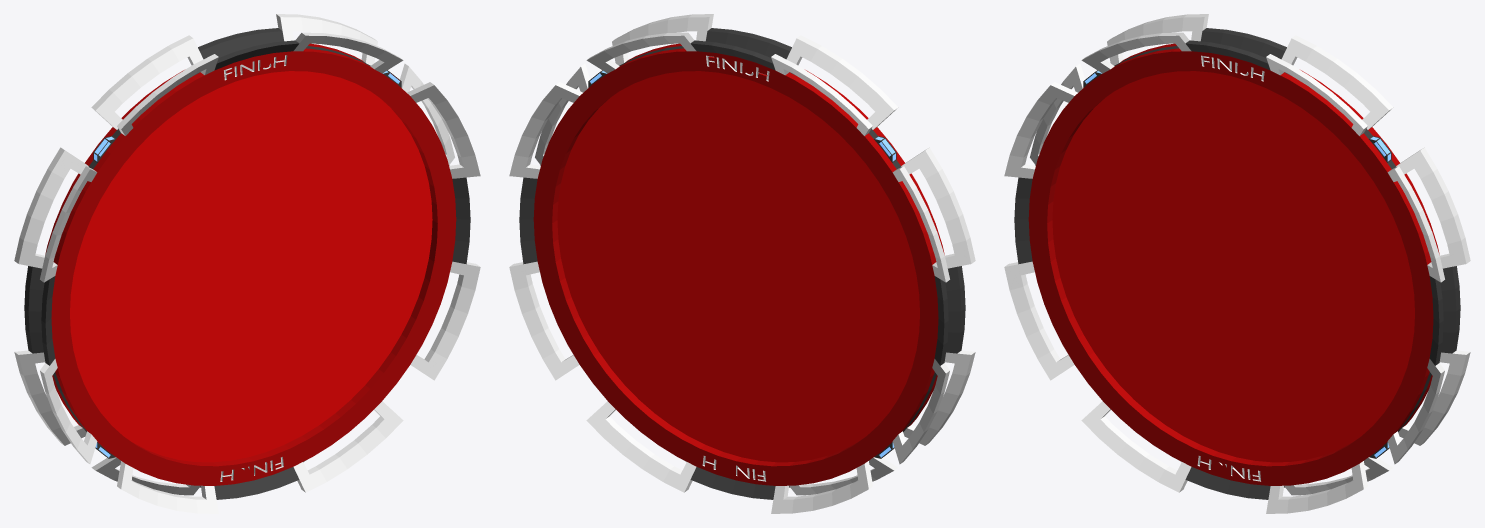
File: Checkpoint_ring_Finish.fbx
The picture shows the model from 3 angles, left to right: view 1: azimuth 30°, elevation 25°; view 2: azimuth 150°, elevation 25°; view 3: azimuth 330°, elevation 25°; orthographic projection.
Visible parts, largest first — view 1: Semi-transparent checkpoint inside, Checkpoint Ring; view 2: Semi-transparent checkpoint inside, Checkpoint Ring; view 3: Semi-transparent checkpoint inside, Checkpoint Ring.
Part boxes in pixels (<box>): Semi-transparent checkpoint inside: <box>70,71,432,462</box>; Checkpoint Ring: <box>14,14,480,513</box>; Semi-transparent checkpoint inside: <box>557,71,919,462</box>; Checkpoint Ring: <box>509,14,975,513</box>; Semi-transparent checkpoint inside: <box>1052,71,1414,462</box>; Checkpoint Ring: <box>1004,14,1470,513</box>.
Bounding box in the file's own units: 5934 × 5934 × 700.
